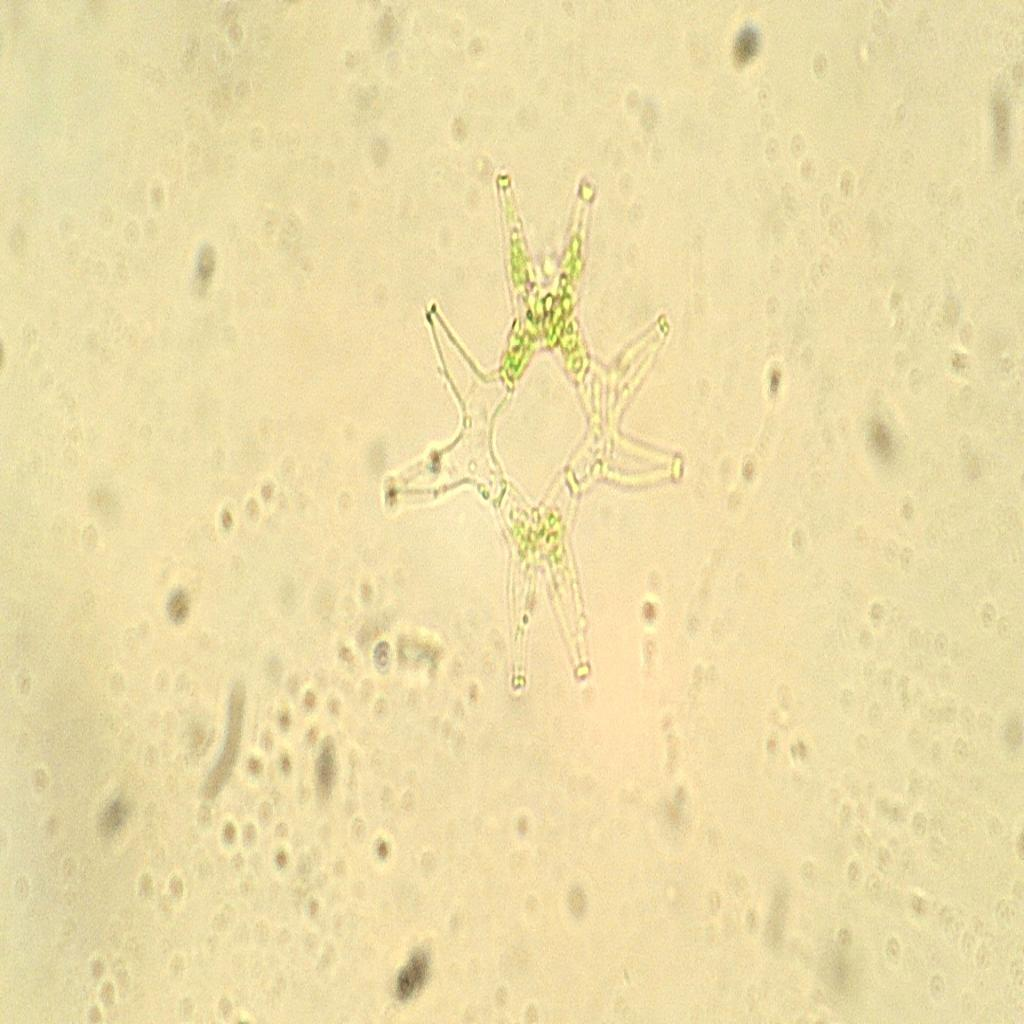Pediastrum_1F0: (378, 159, 716, 710)
